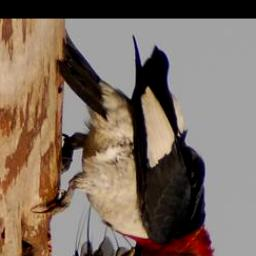Woodpecker: (33, 32, 214, 256)
